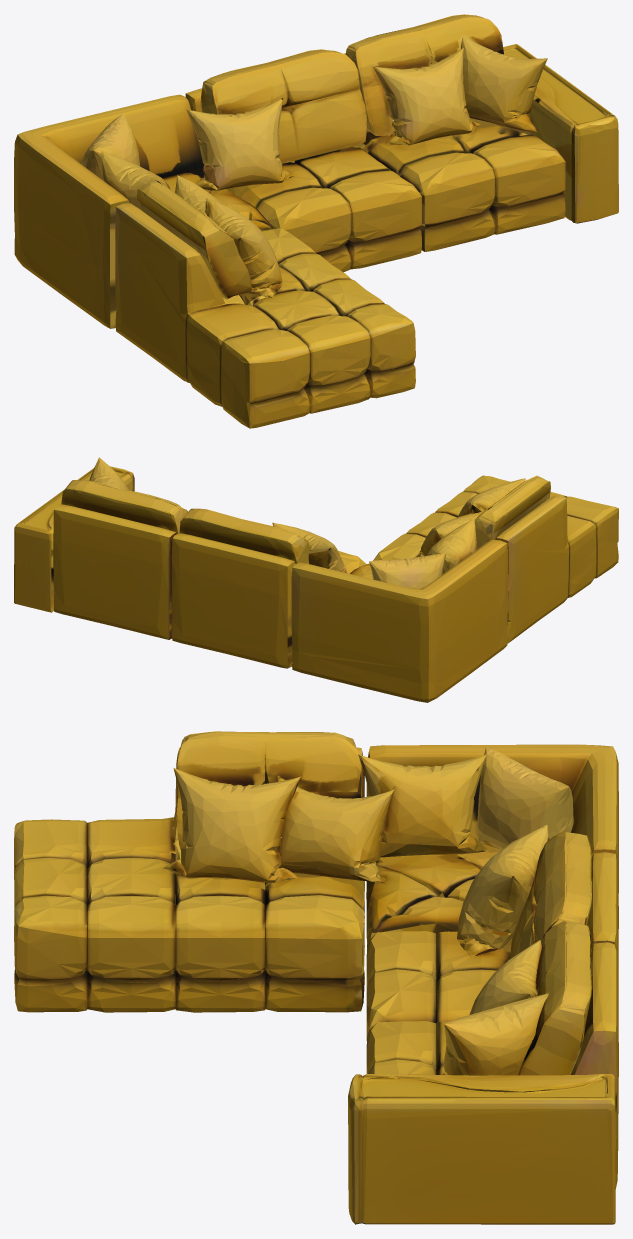
File: edited_mesh.glb
The picture shows the model from 3 angles, top to bottom: view 1: azimuth 30°, elevation 25°; view 2: azimuth 150°, elevation 25°; view 3: azimuth 270°, elevation 25°; orthographic projection. The views are drawn at different scales.
Visible parts, largest first — view 1: solid_001_wire; view 2: solid_001_wire; view 3: solid_001_wire.
Boxes of the visible parts, x1,y1,x2,y2 form: solid_001_wire: [14, 14, 618, 428]; solid_001_wire: [14, 457, 618, 702]; solid_001_wire: [14, 731, 618, 1224].
Size of the model in its own units: 2 by 0.5776 by 1.61.
1 material, 1 textured.
